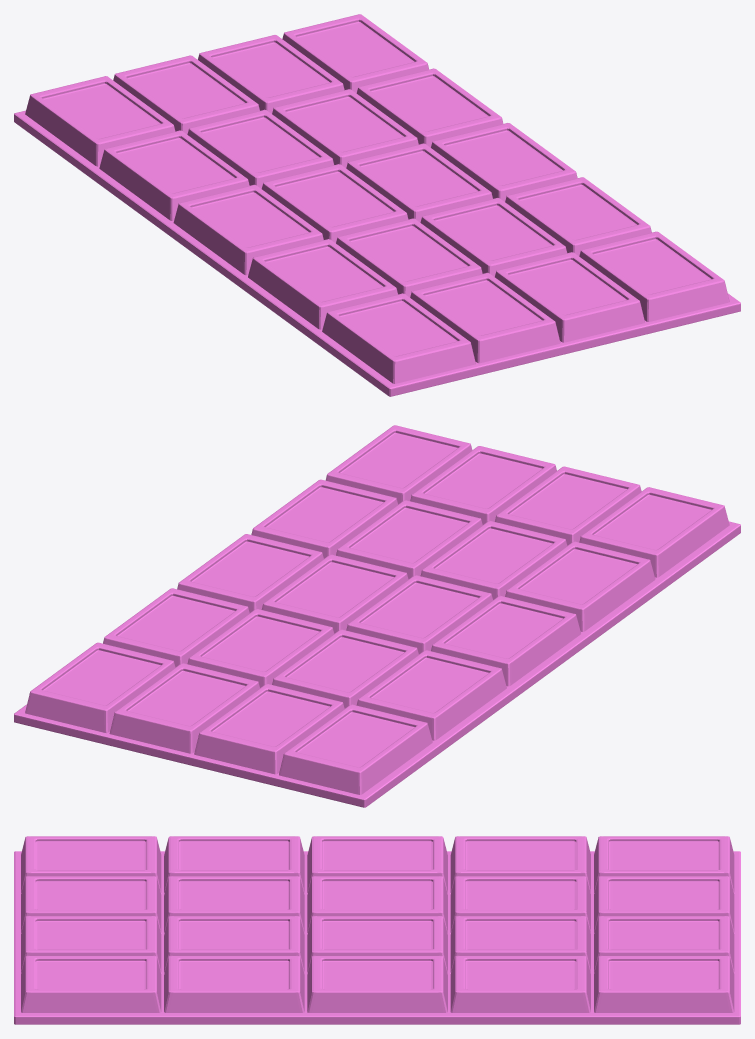
The model's file is vişne çikolata.fbx.
3 views of the same model, one above another, from view 1: azimuth 30°, elevation 25°; view 2: azimuth 150°, elevation 25°; view 3: azimuth 270°, elevation 25° (orthographic). The views are drawn at different scales.
Parts seen in each view (by area): view 1: dark brown; view 2: dark brown; view 3: dark brown.
Boxes of the visible parts, x1,y1,x2,y2 form: dark brown: [14, 14, 740, 396]; dark brown: [14, 425, 740, 807]; dark brown: [14, 836, 740, 1024].
Bounding box in the file's own units: 416 × 33.09 × 771.
